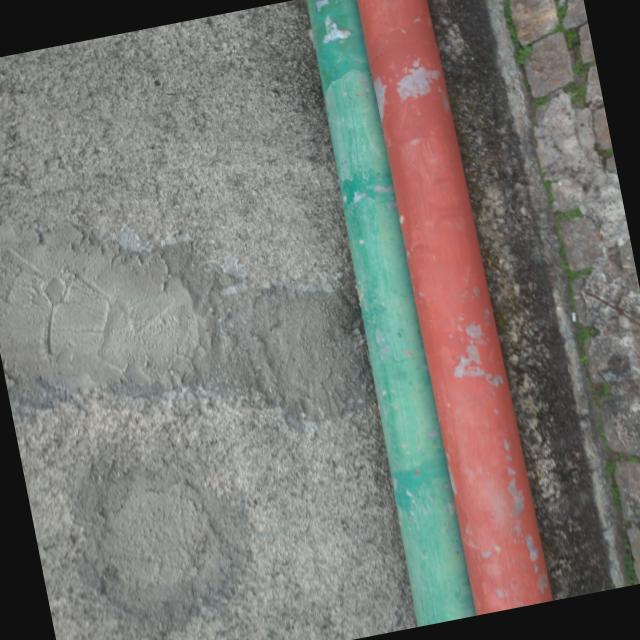gas: (358, 0, 545, 615), (305, 0, 470, 626)
